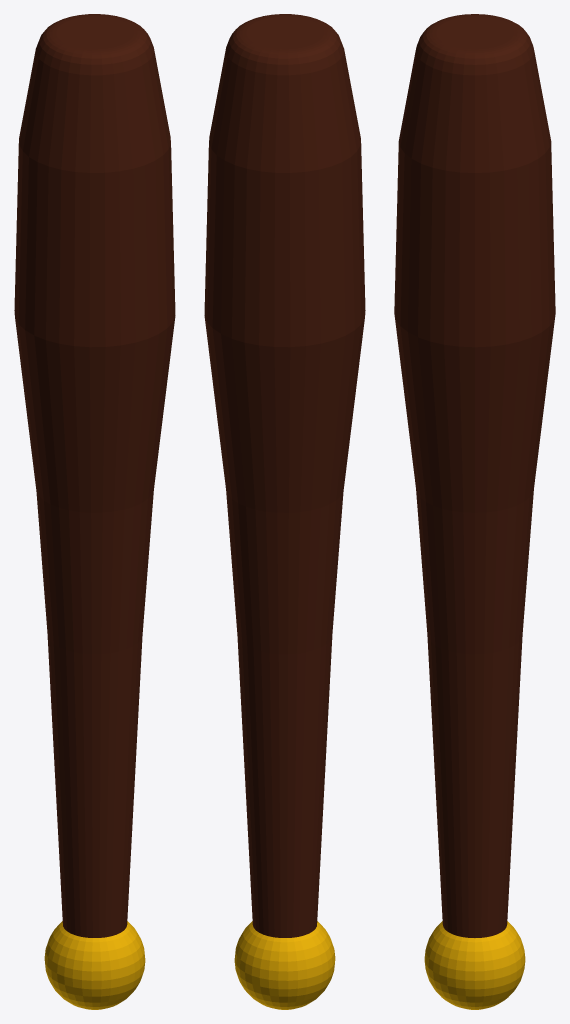
Rendered from club_01.fbx.
3 renders of one model, left to right at view 1: azimuth 30°, elevation 25°; view 2: azimuth 150°, elevation 25°; view 3: azimuth 270°, elevation 25°, orthographic.
Parts seen in each view (by area): view 1: Cylinder, Sphere; view 2: Cylinder, Sphere; view 3: Cylinder, Sphere.
Part boxes in pixels (x1,y1,x2,y2): Cylinder: (14, 14, 175, 937); Sphere: (44, 921, 145, 1009); Cylinder: (204, 14, 365, 937); Sphere: (234, 921, 335, 1009); Cylinder: (394, 14, 555, 937); Sphere: (424, 921, 525, 1009).
Bounding box in the file's own units: 0.3104 × 2.06 × 0.3104.
